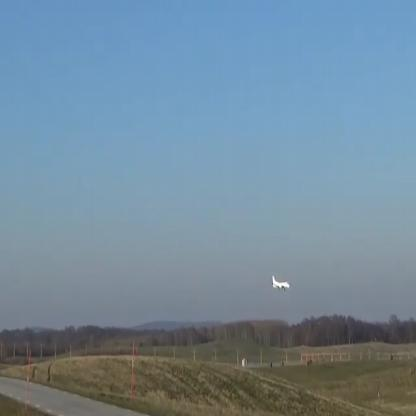aircraft: (272, 275, 290, 288)
